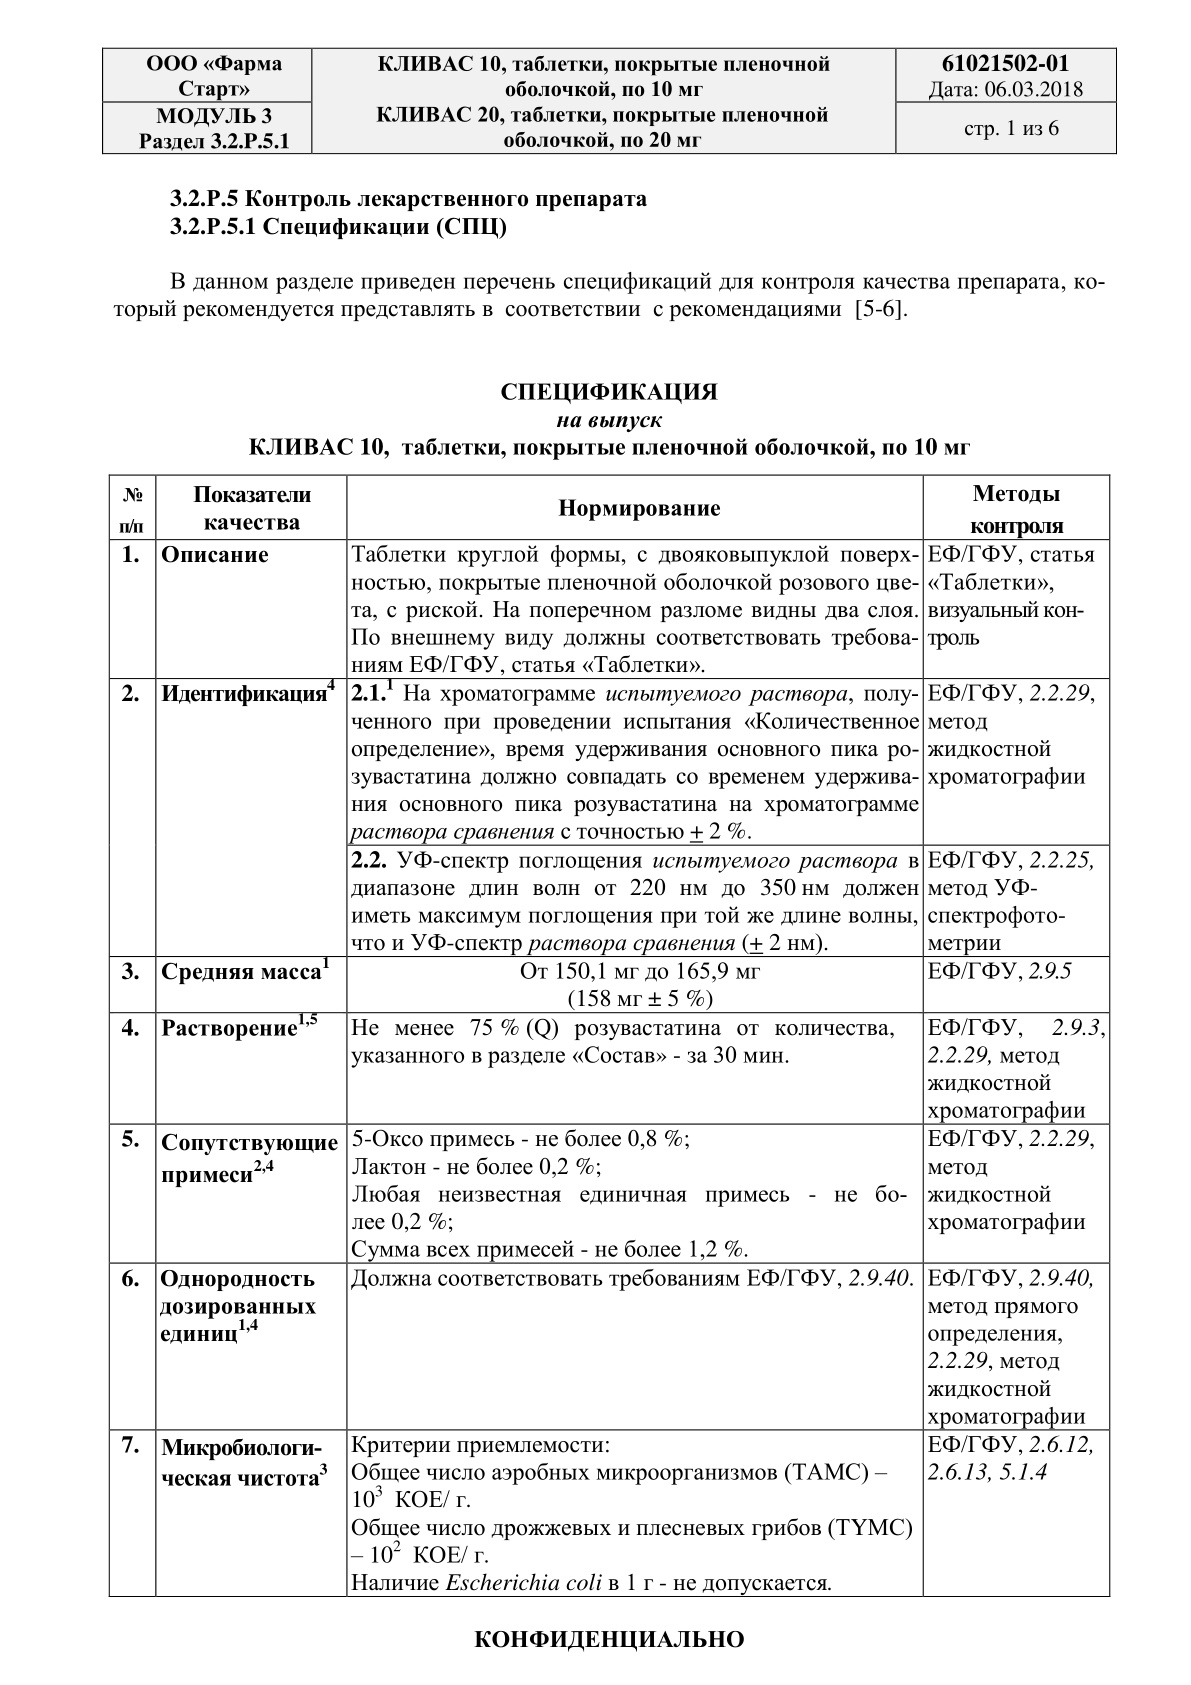full_lined: (107, 473, 1112, 1599)
merged_cells: (101, 45, 1118, 153)
